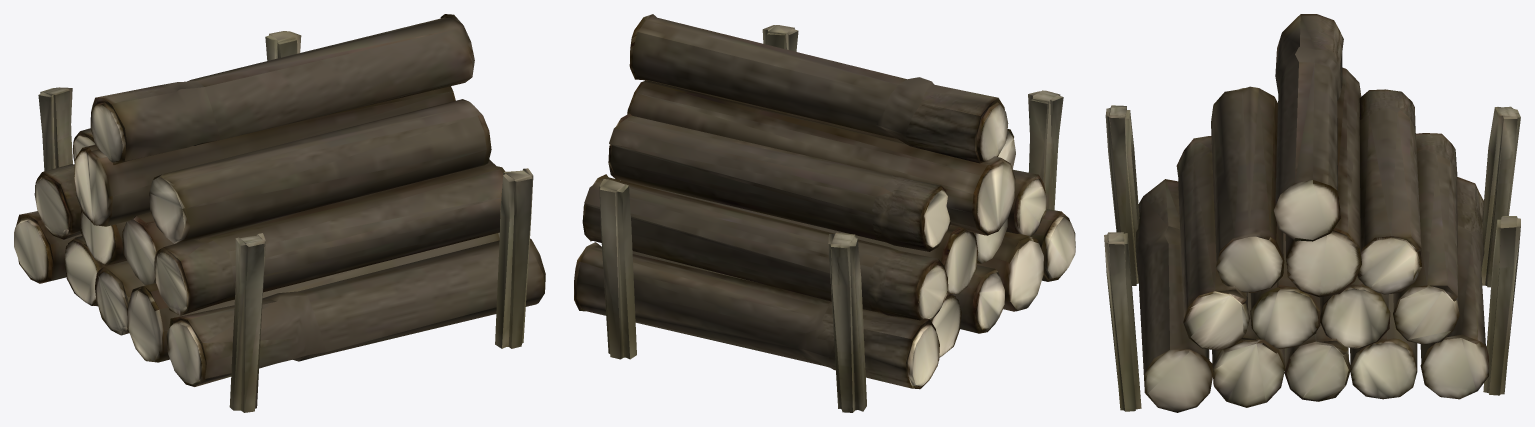
The model's file is log_stack.glb.
The picture shows the model from 3 angles, left to right: view 1: azimuth 30°, elevation 25°; view 2: azimuth 150°, elevation 25°; view 3: azimuth 270°, elevation 25°; orthographic projection. The views are drawn at different scales.
Visible parts, largest first — view 1: model; view 2: model; view 3: model.
Part boxes in pixels (x1,y1,x2,y2): model: [14, 14, 545, 412]; model: [574, 14, 1075, 412]; model: [1104, 14, 1520, 412].
Bounding box in the file's own units: 1.51 × 1 × 1.53.
1 material, 1 textured.
